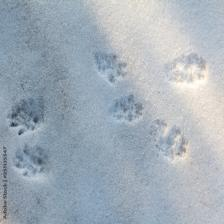squirrel: (8, 105, 43, 135)
